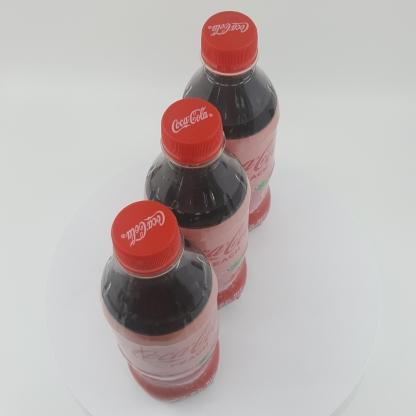-----------390ML: (100, 200, 219, 403), (143, 97, 251, 312)
